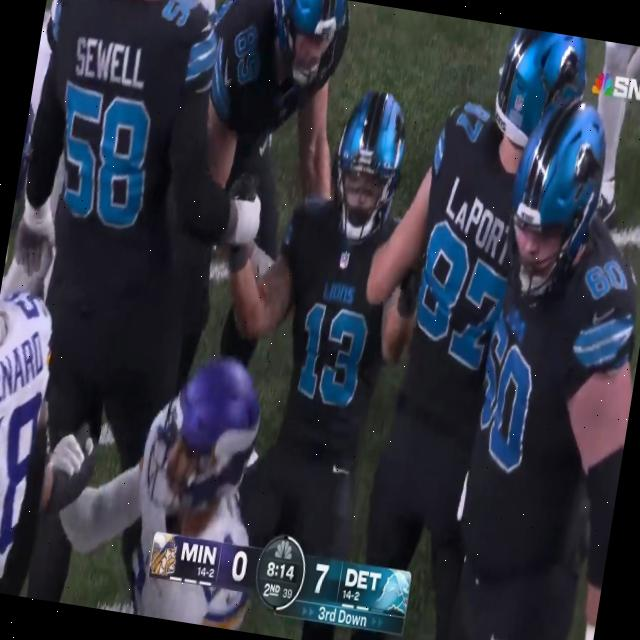Player: (358, 21, 564, 568), (442, 93, 640, 640), (246, 80, 439, 559), (13, 0, 255, 325), (190, 0, 365, 220), (0, 260, 77, 597)
